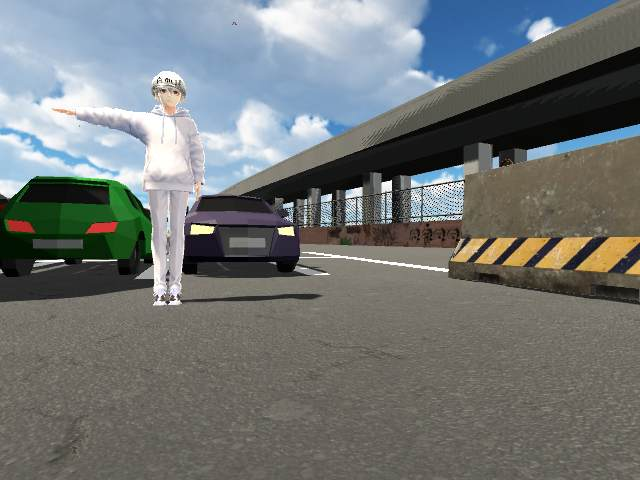singleP_left: (49, 69, 204, 308)
